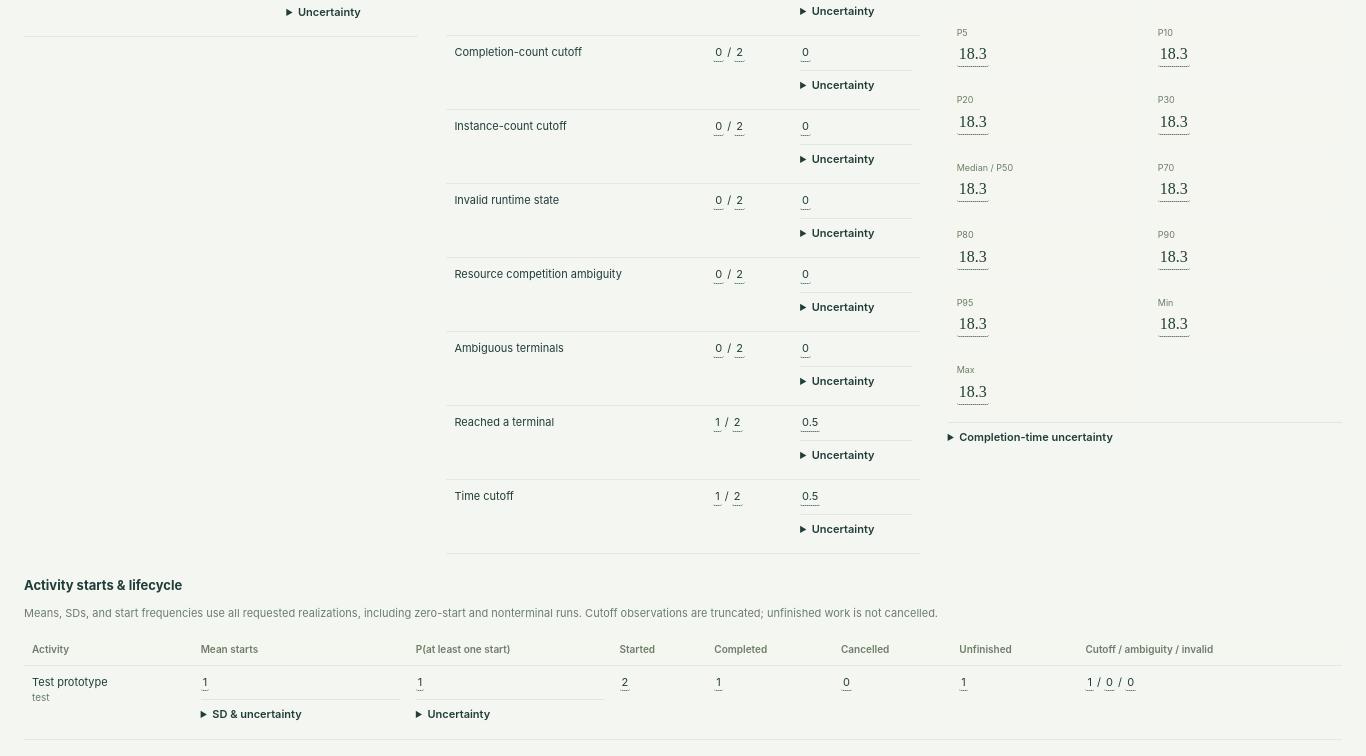
Test: statistical results › keeps lifecycle counts separate and discloses SD, mean SE and Student-t uncertainty for activity starts
(page scrolled)
Click the heading named "test starts spread and uncertainty": (257, 714) [212,708,302,722]
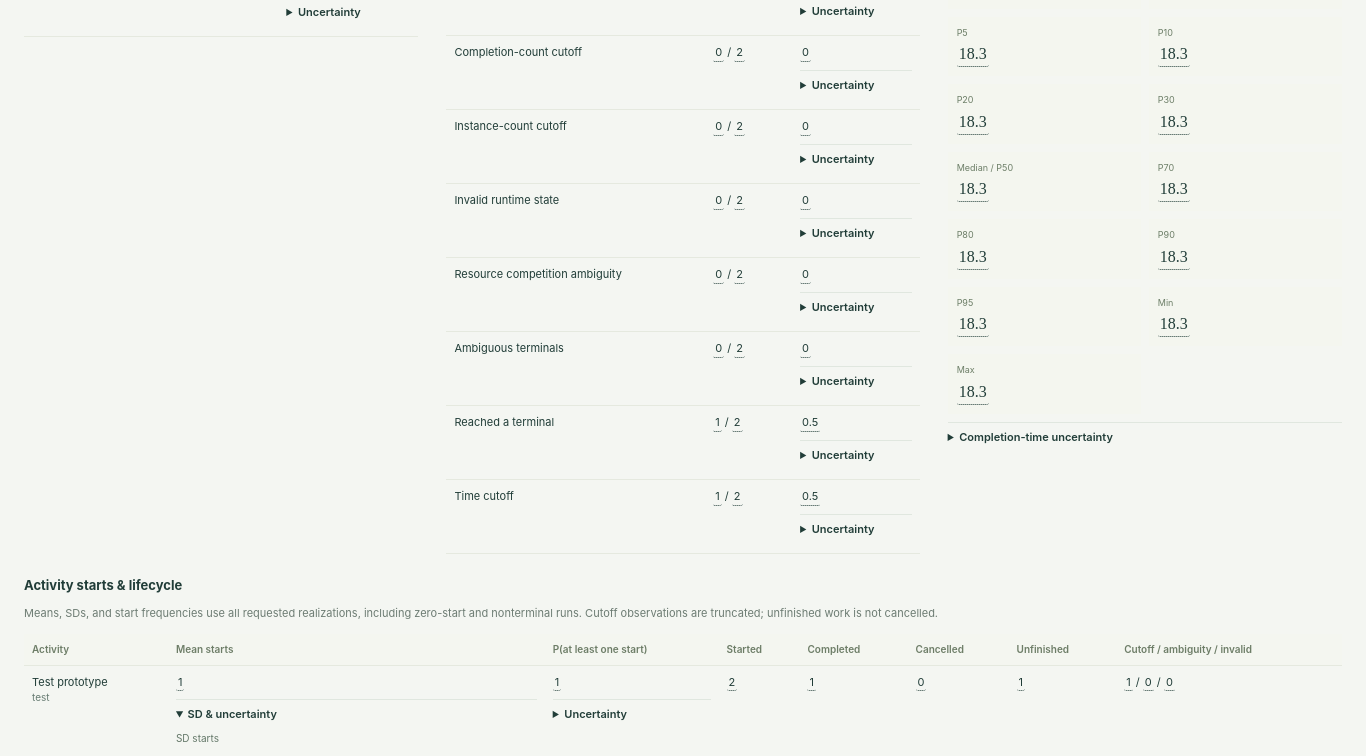
Expected: the column heading "Started" is shown, [718,634,799,666]
Result: the text "SD starts" is shown at [176,732,219,744]
